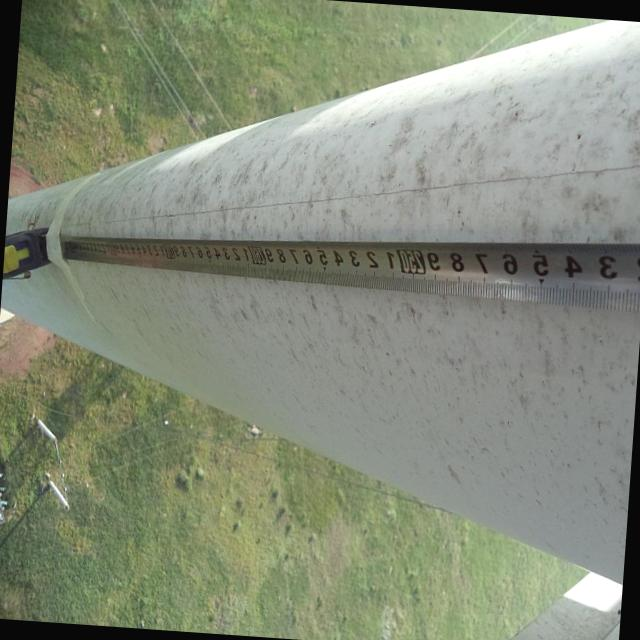crack: (333, 141, 640, 226), (97, 180, 326, 240)
